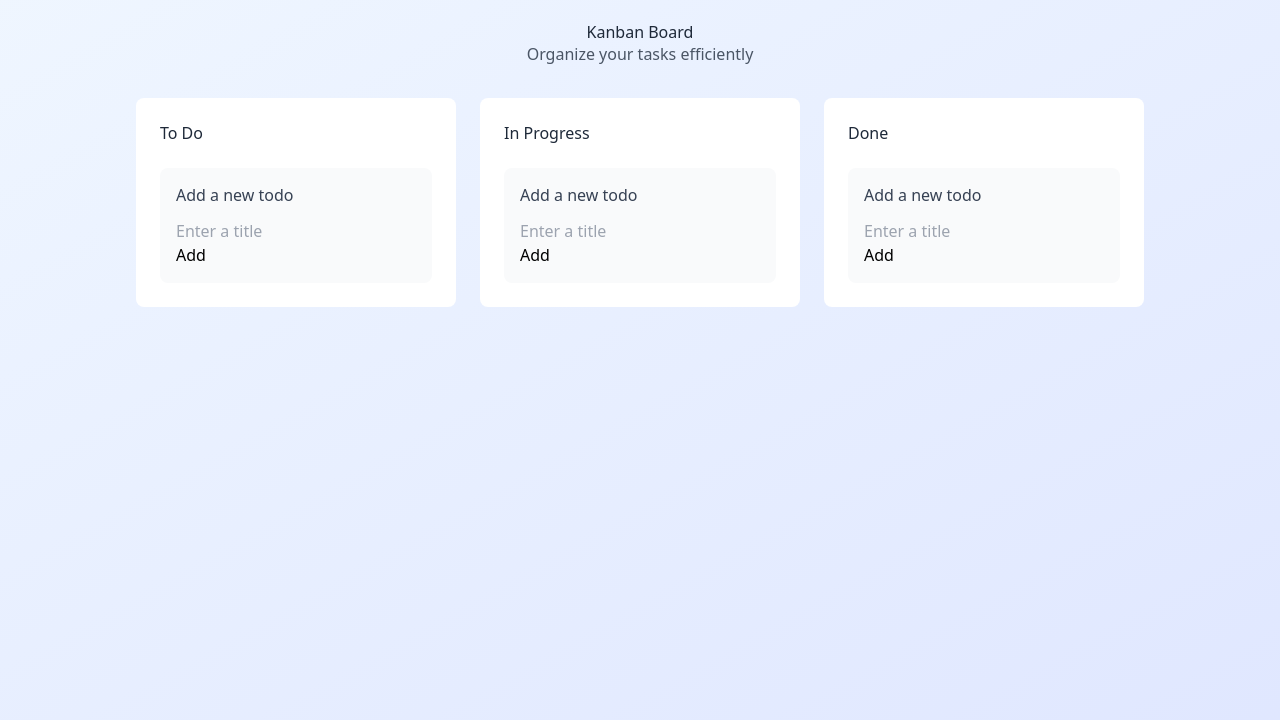
Test: App › should add a todo
Type "Test Todo" into the field with placeholder "Enter a title" below "To Do". click: x=296, y=231
box: 176,219 -> 416,243
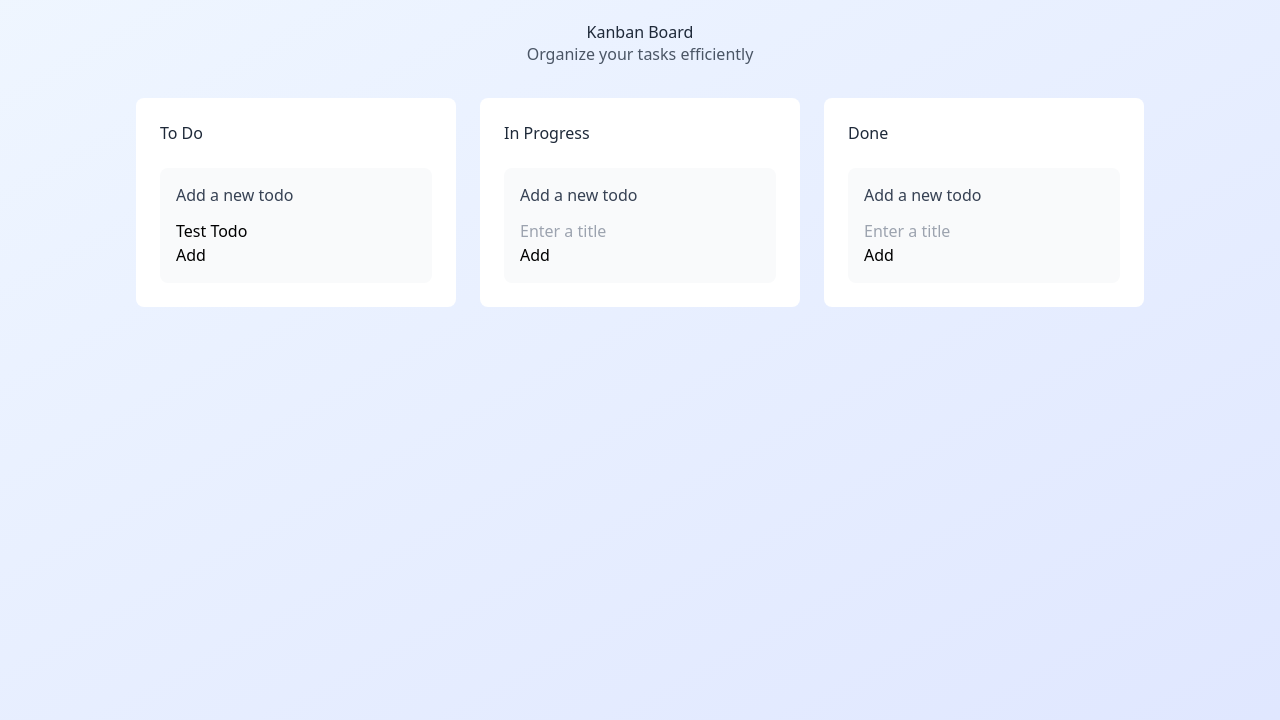
Click the button "Add" below "To Do". click: x=191, y=255
box: 176,243 -> 206,267
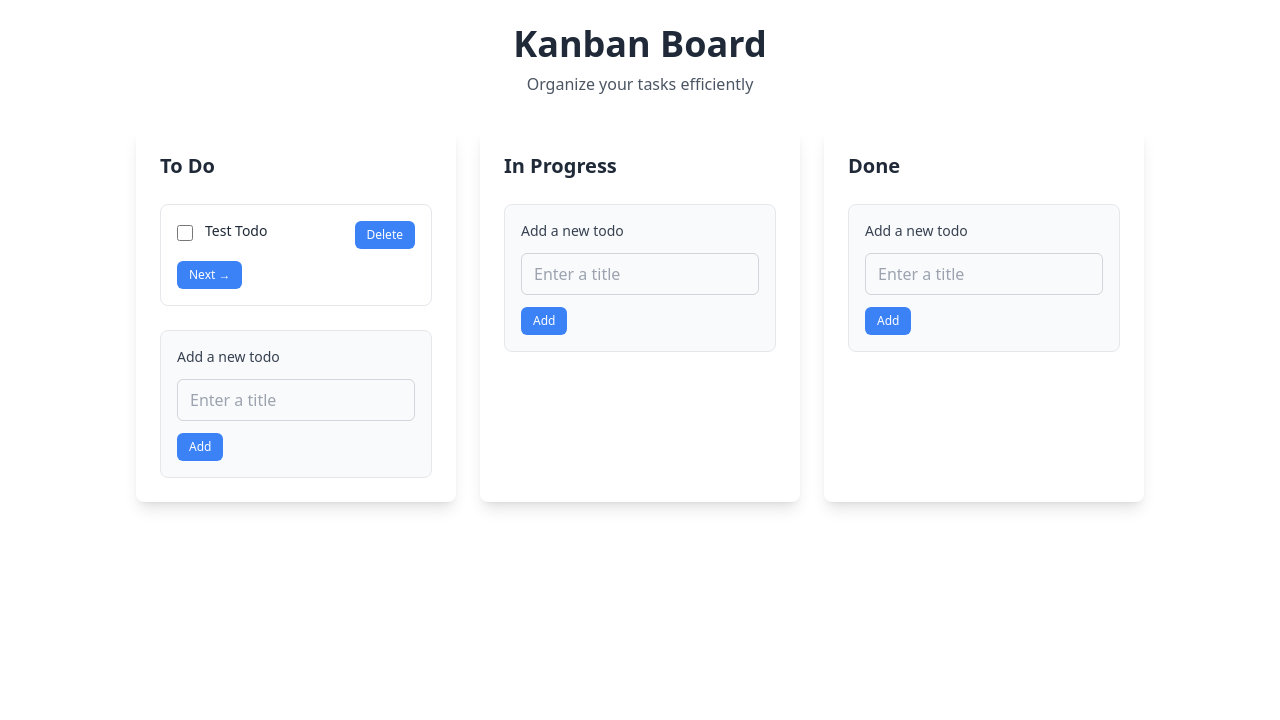
Expected: the text "Test Todo" is shown, 205,221 -> 268,240
